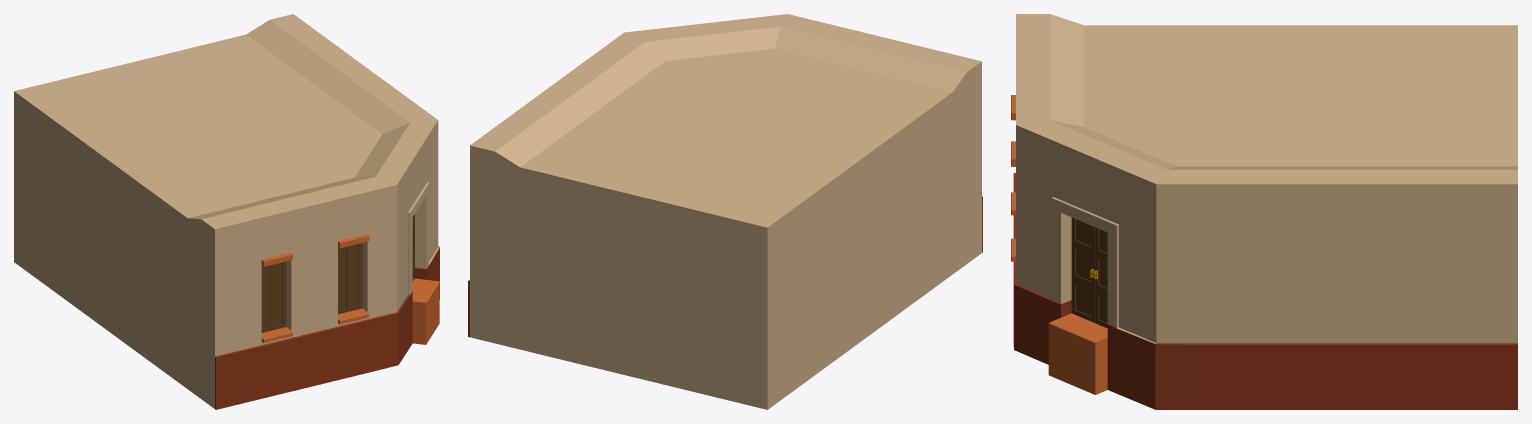
The model's file is Edificio_Grande_Esquina03.fbx.
The picture shows the model from 3 angles, left to right: view 1: azimuth 30°, elevation 25°; view 2: azimuth 150°, elevation 25°; view 3: azimuth 270°, elevation 25°; orthographic projection. The views are drawn at different scales.
Parts seen in each view (by area): view 1: Edificio_Esquina01; view 2: Edificio_Esquina01; view 3: Edificio_Esquina01.
Boxes of the visible parts, box(x1,y1,x2,y2) form: Edificio_Esquina01: box(14, 14, 439, 409); Edificio_Esquina01: box(468, 14, 982, 409); Edificio_Esquina01: box(1011, 14, 1517, 409).
Bounding box in the file's own units: 817 × 500 × 1022.
